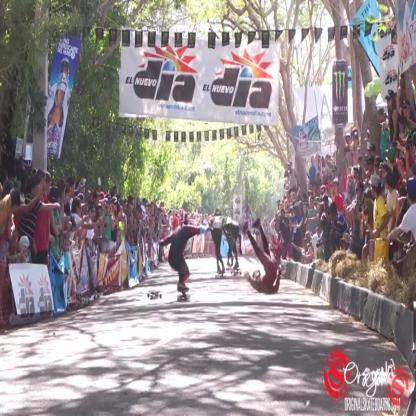Fall_Down: (242, 214, 284, 299)
